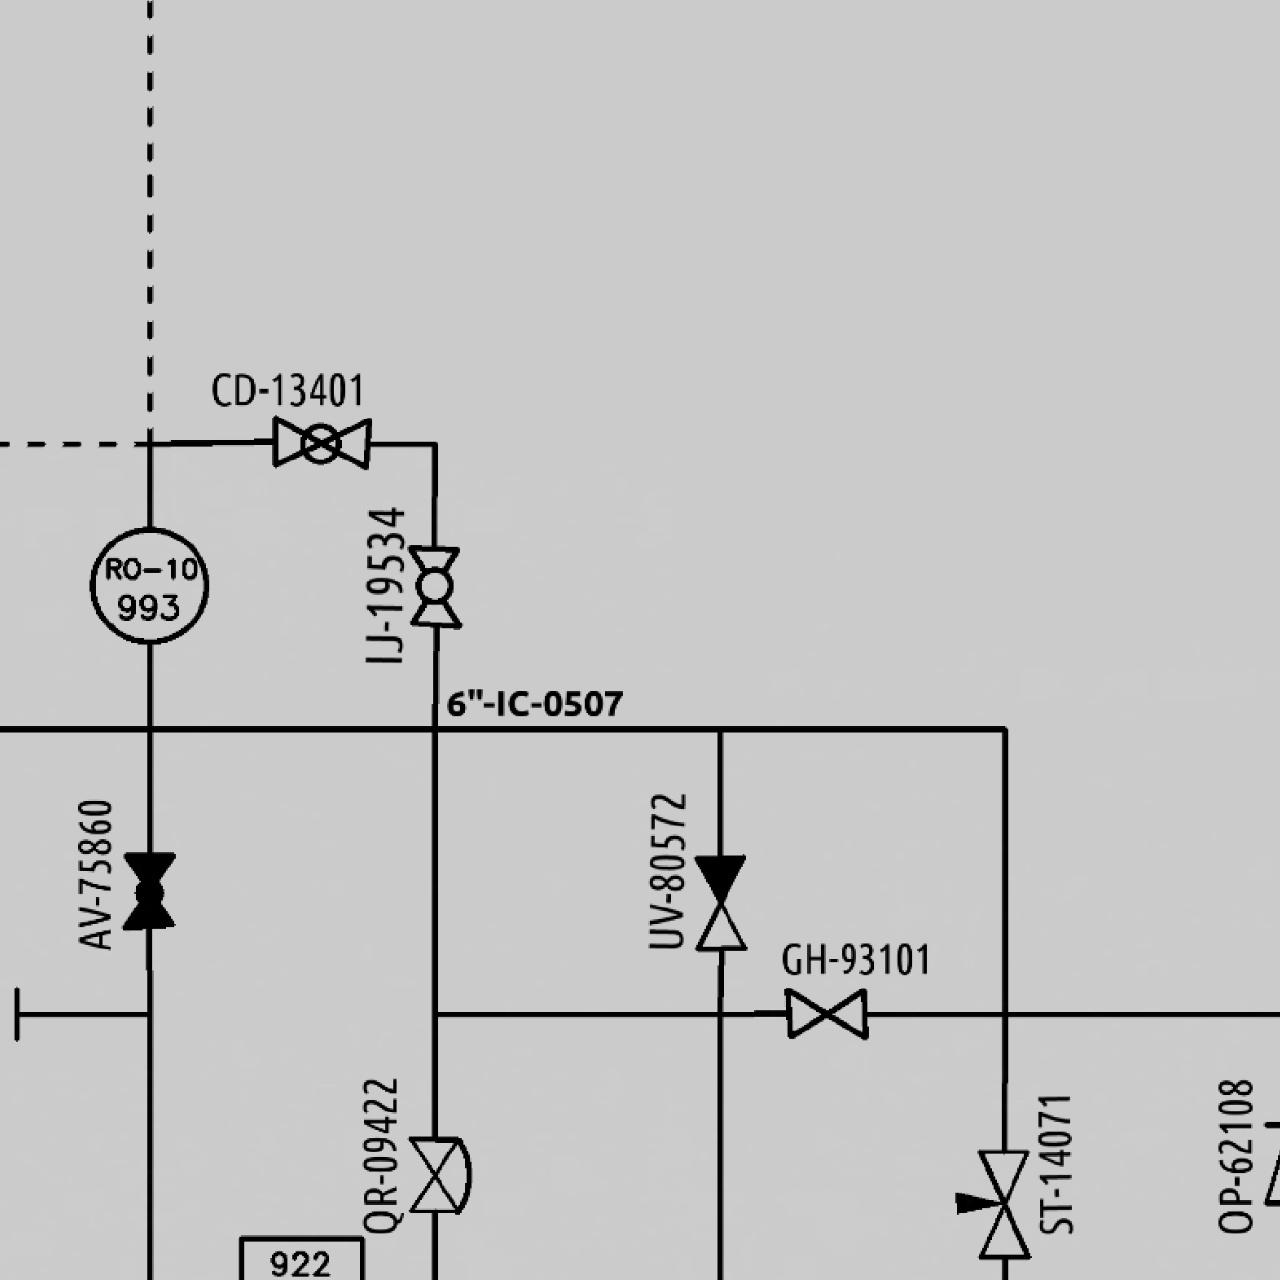Control-Panel: (86, 520, 212, 648)
Half closed valve: (688, 849, 750, 954)
